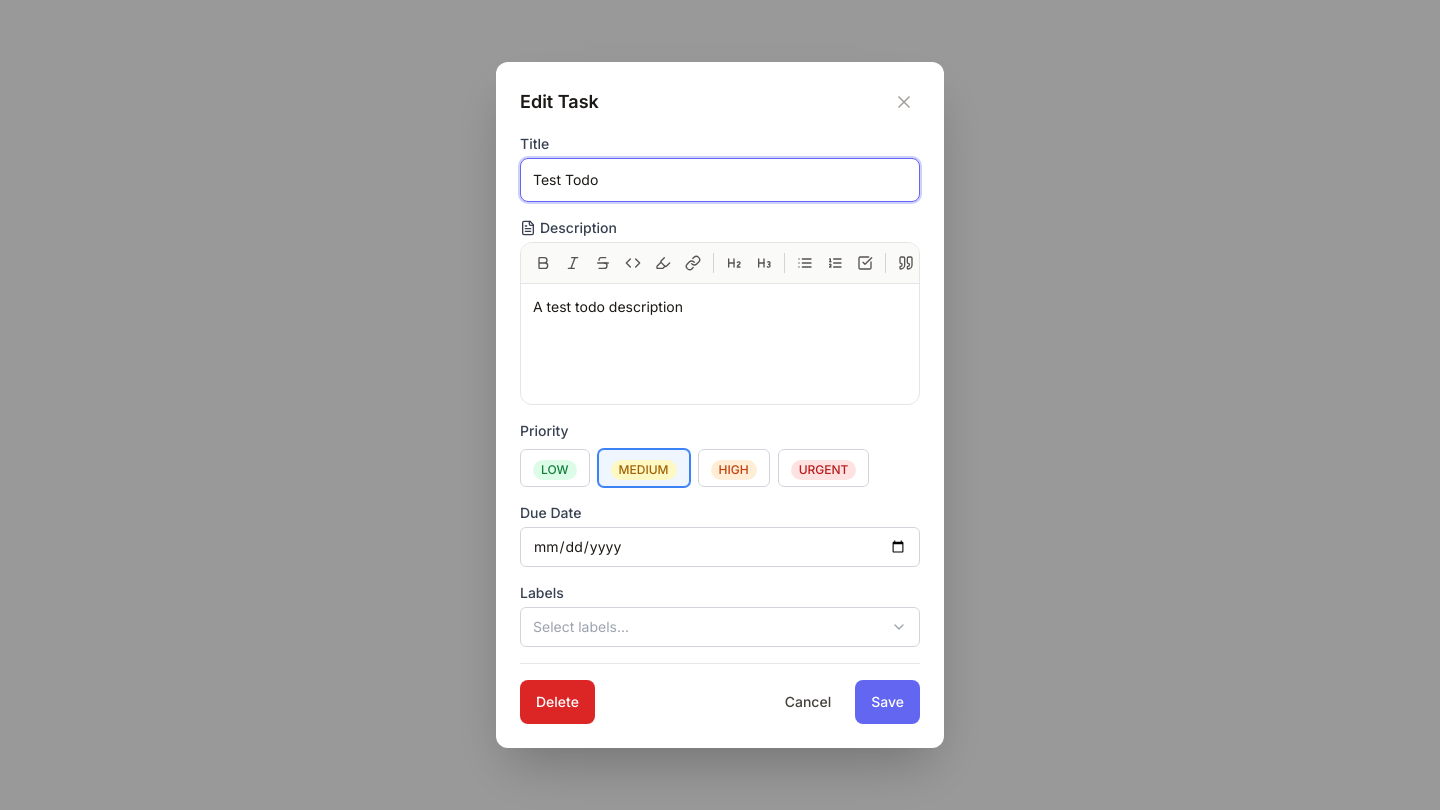
Scenario: TodoEditModal › delete functionality › shows confirmation dialog when Delete is clicked
The width and height of the screenshot is (1440, 810).
Click the button "Delete" at (557, 702), box [520,680,595,724]
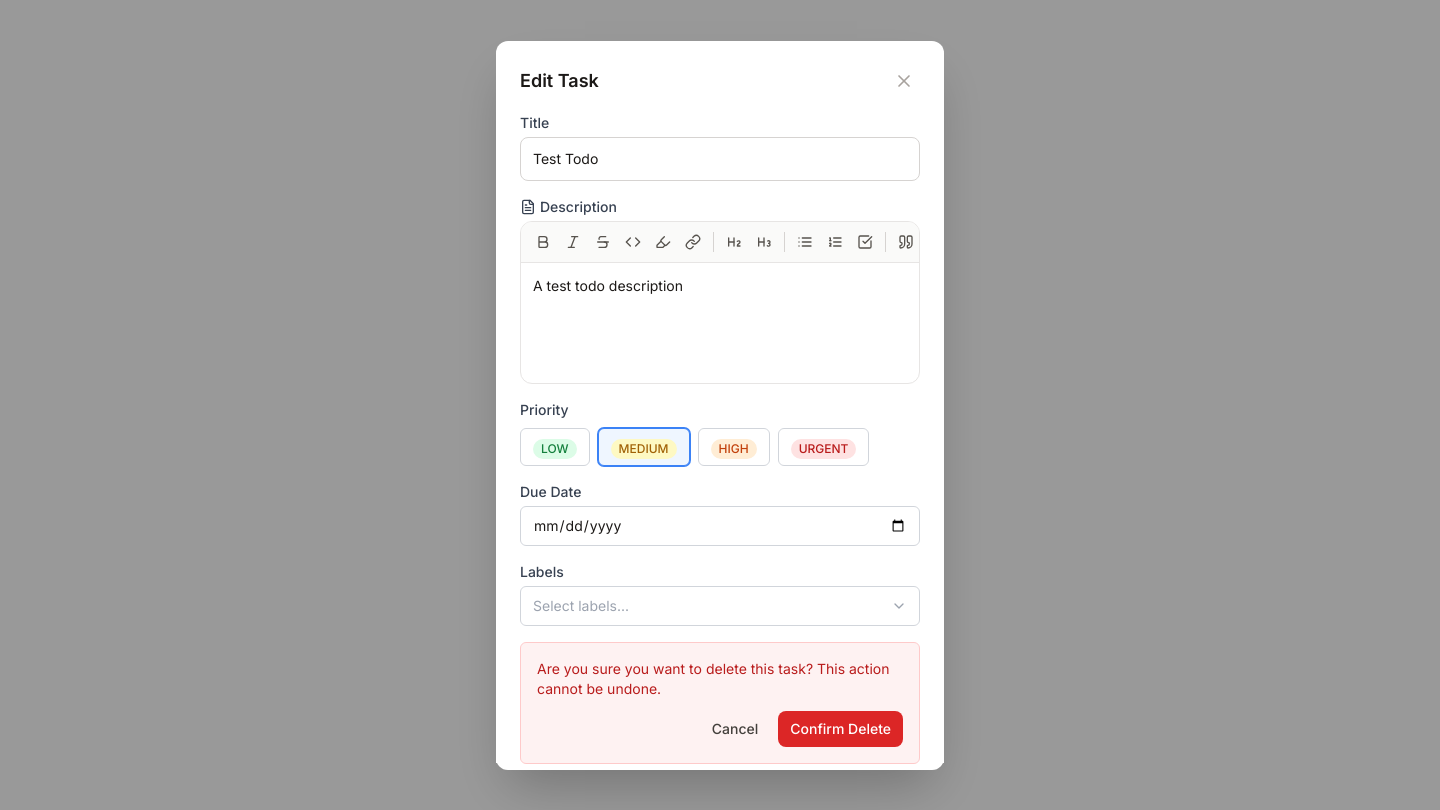
Now the text "Are you sure" is shown, box [537,660,890,696]
